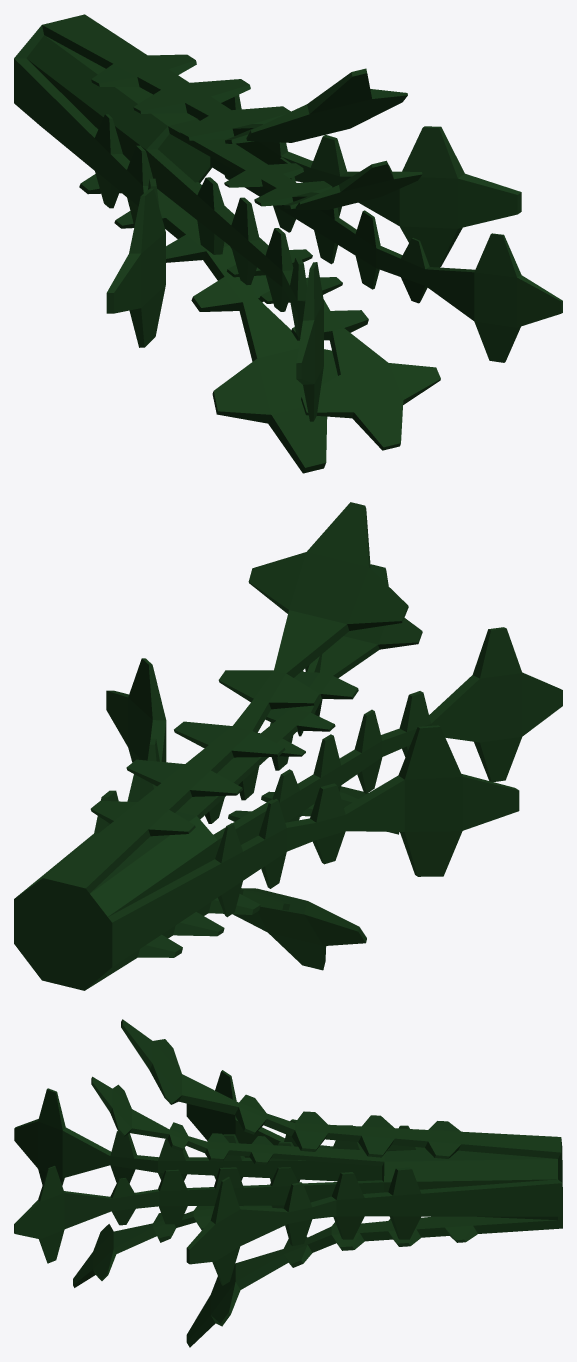
The model's file is FreshOregano.obj.
3 renders of one model, top to bottom at view 1: azimuth 30°, elevation 25°; view 2: azimuth 150°, elevation 25°; view 3: azimuth 270°, elevation 25°, orthographic. The views are drawn at different scales.
Parts seen in each view (by area): view 1: leek.002; view 2: leek.002; view 3: leek.002.
Boxes of the visible parts, left/top/right/bottom form: leek.002: left=14, top=14, right=562, bottom=473; leek.002: left=14, top=502, right=562, bottom=990; leek.002: left=14, top=1019, right=562, bottom=1347.
Bounding box in the file's own units: 0.1418 × 0.1415 × 0.2185.
